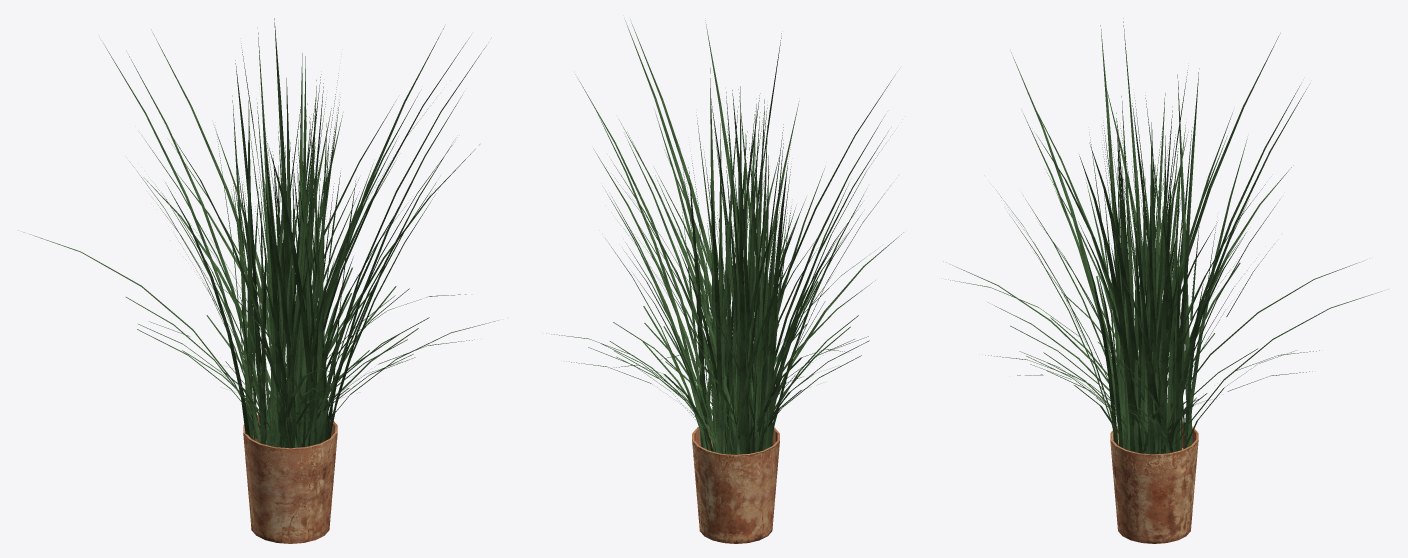
Rendered from Plant 4.FBX.
3 views of the same model, side by side, from view 1: azimuth 30°, elevation 25°; view 2: azimuth 150°, elevation 25°; view 3: azimuth 270°, elevation 25° (orthographic). The views are drawn at different scales.
Parts seen in each view (by area): view 1: Plant 4; view 2: Plant 4; view 3: Plant 4.
Boxes of the visible parts, box(x1,y1,x2,y2) form: Plant 4: box(23, 18, 498, 543); Plant 4: box(546, 19, 903, 543); Plant 4: box(943, 18, 1381, 543).
Bounding box in the file's own units: 206 × 231 × 279.
